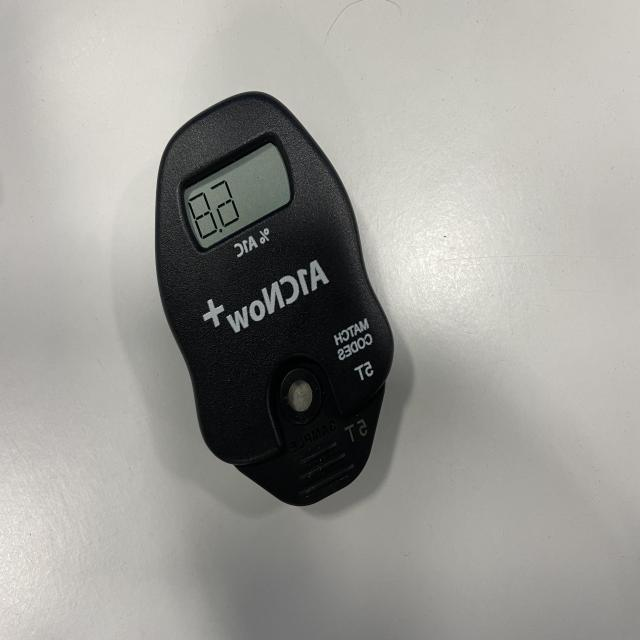hba1c: (154, 92, 395, 510)
